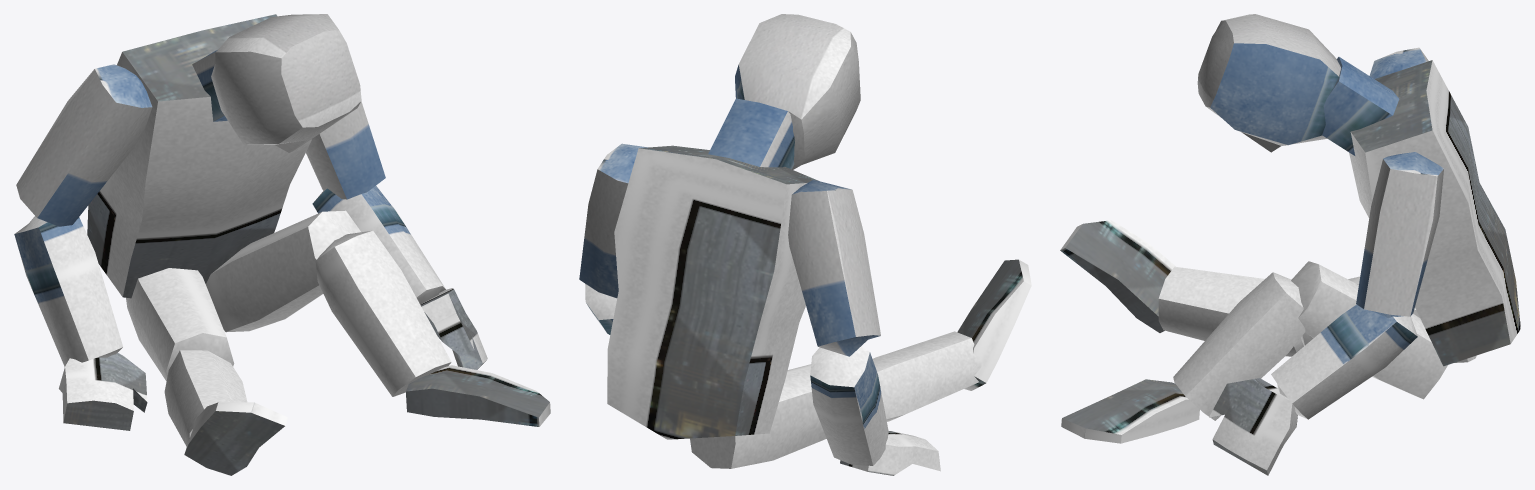
The model's file is Corp_assi.FBX.
3 renders of one model, left to right at view 1: azimuth 30°, elevation 25°; view 2: azimuth 150°, elevation 25°; view 3: azimuth 270°, elevation 25°, orthographic. The views are drawn at different scales.
Visible parts, largest first — view 1: Assis; view 2: Assis; view 3: Assis.
Part boxes in pixels (bbox=[...]): Assis: bbox=[14, 14, 550, 475]; Assis: bbox=[579, 14, 1031, 475]; Assis: bbox=[1060, 14, 1520, 475].
Size of the model in its own units: 80.16 by 81.37 by 90.93.
